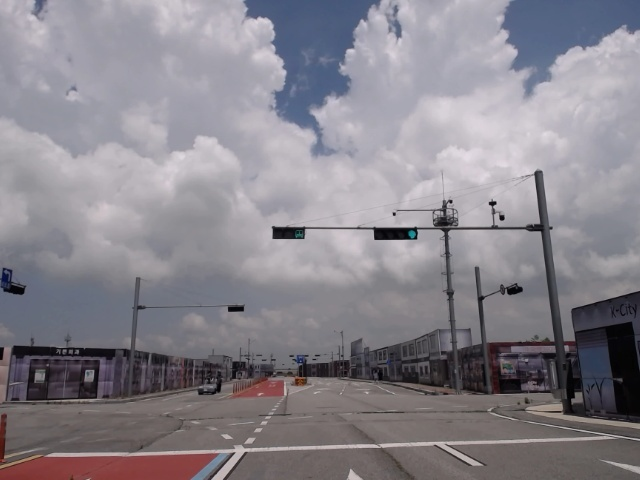straight_green_4: (372, 228, 419, 238)
